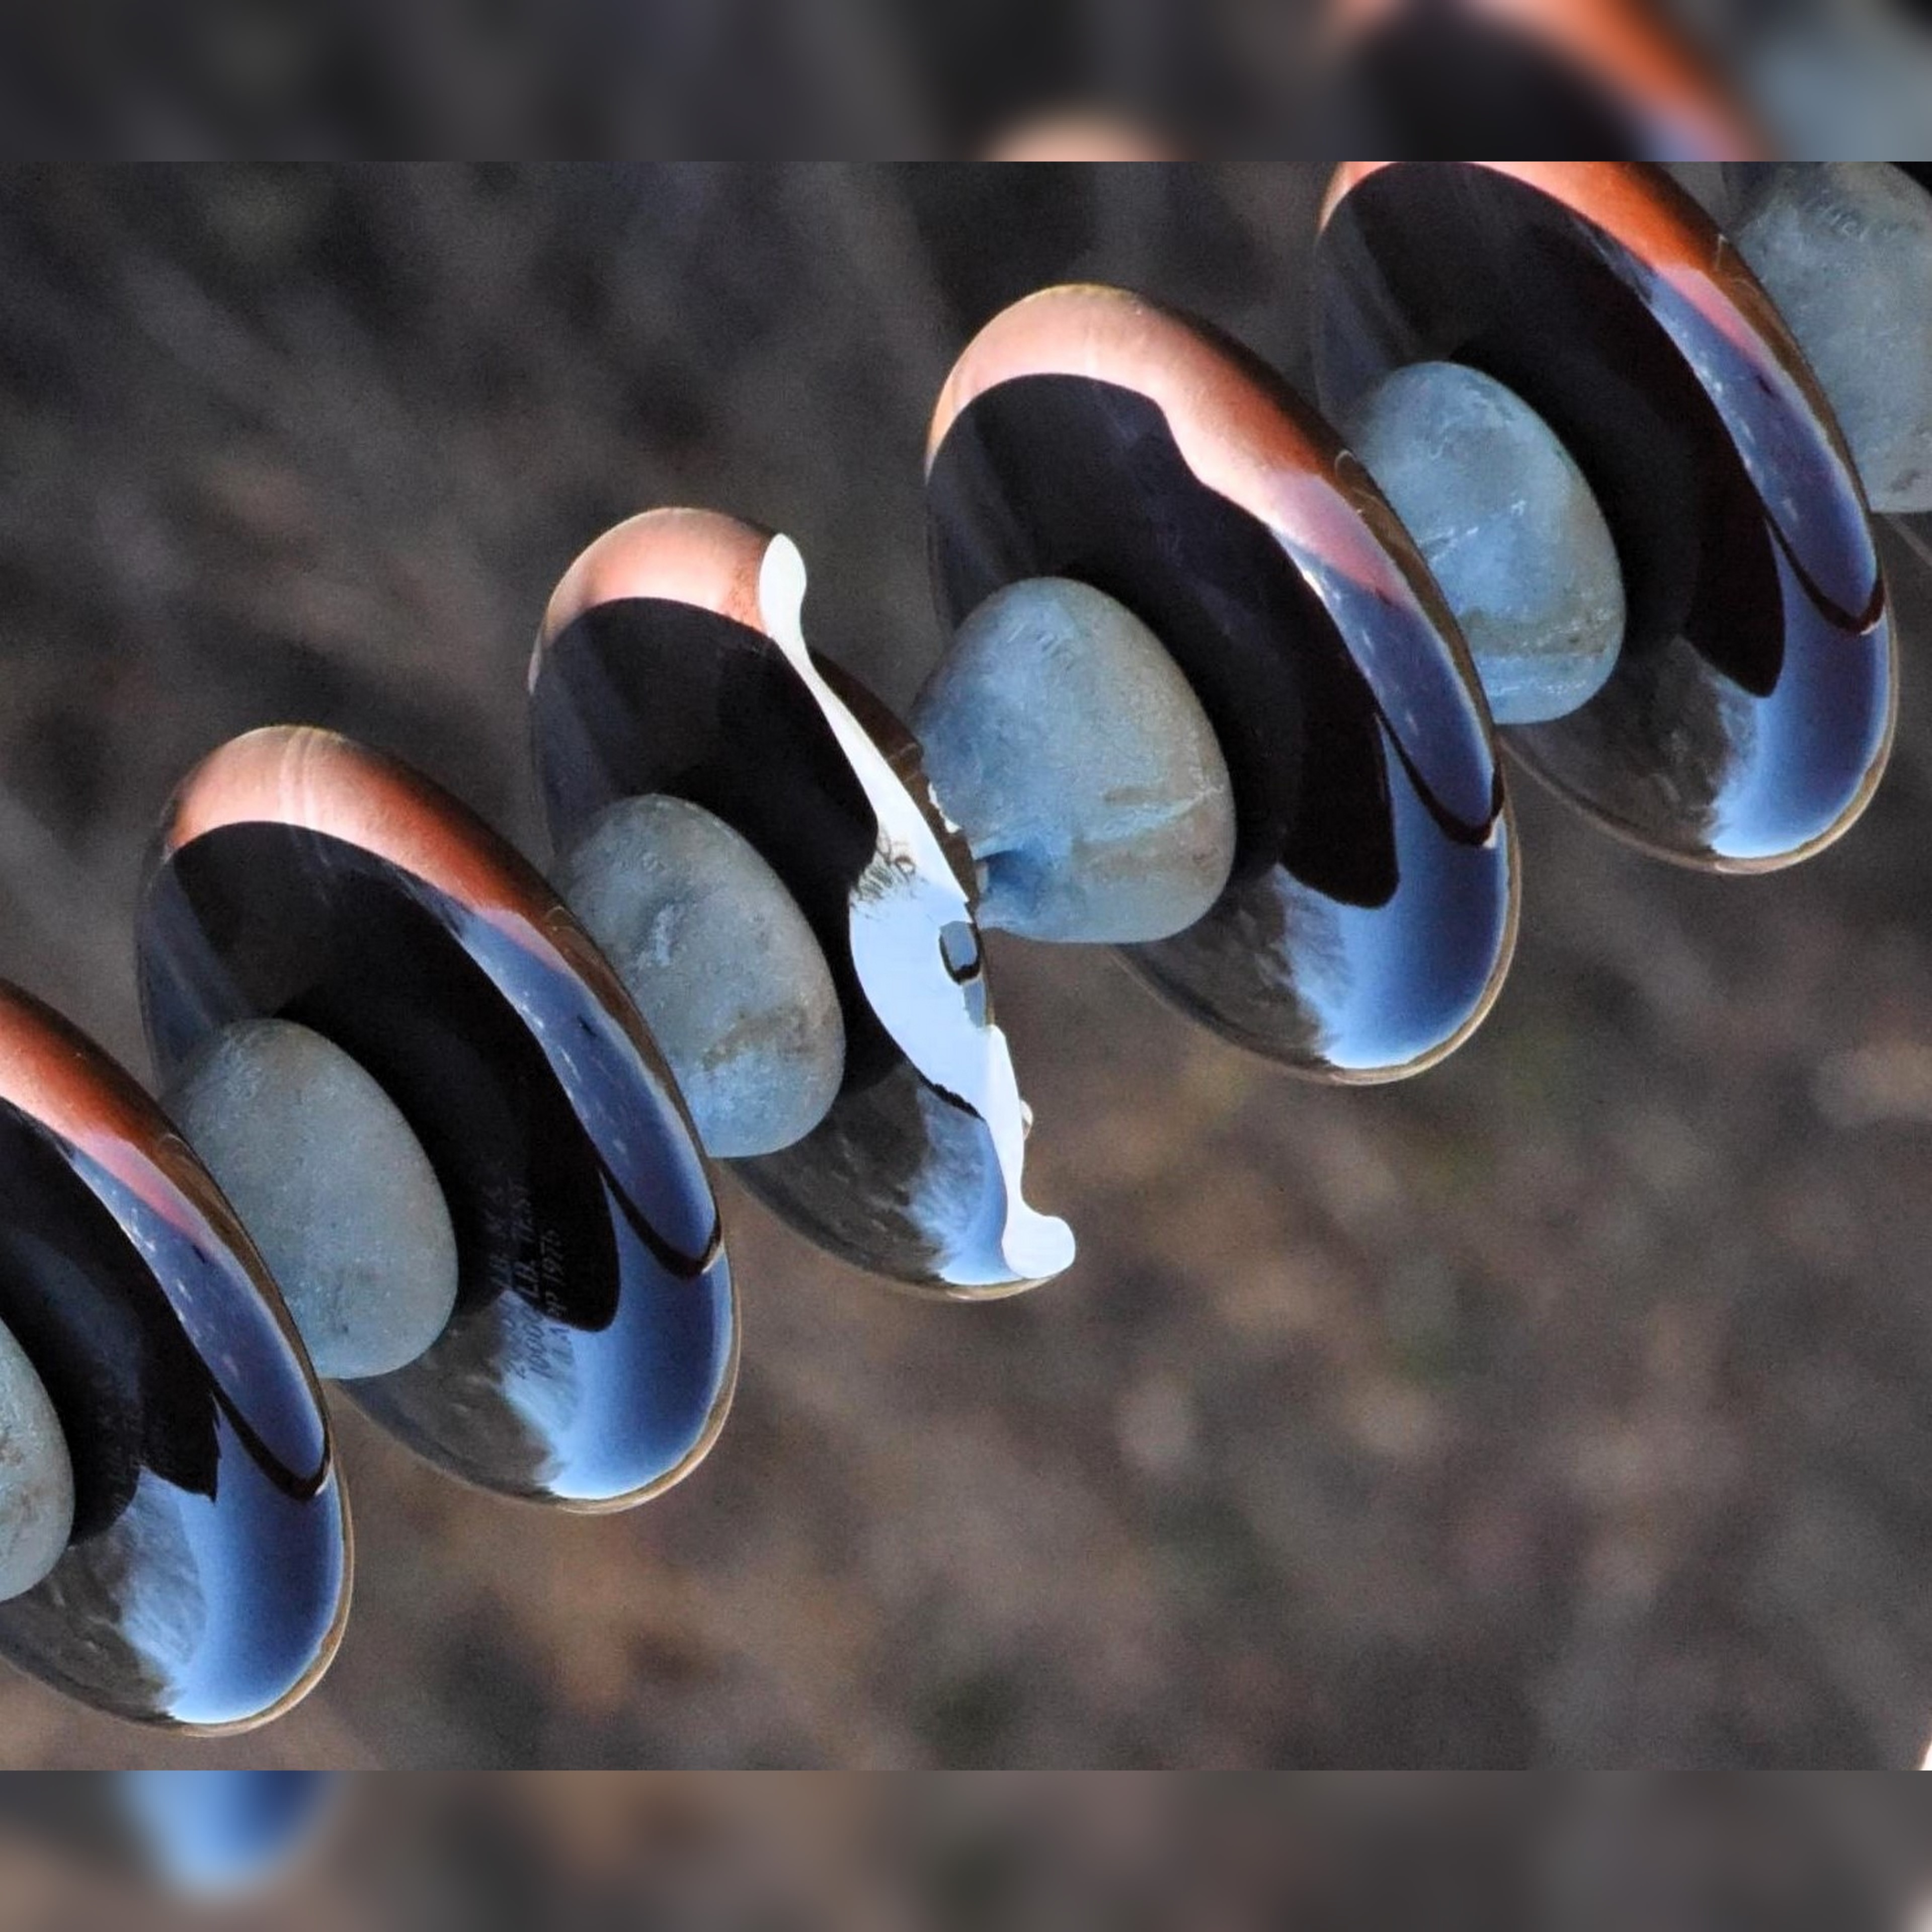insulator breakage: (499, 522, 1088, 1316)
